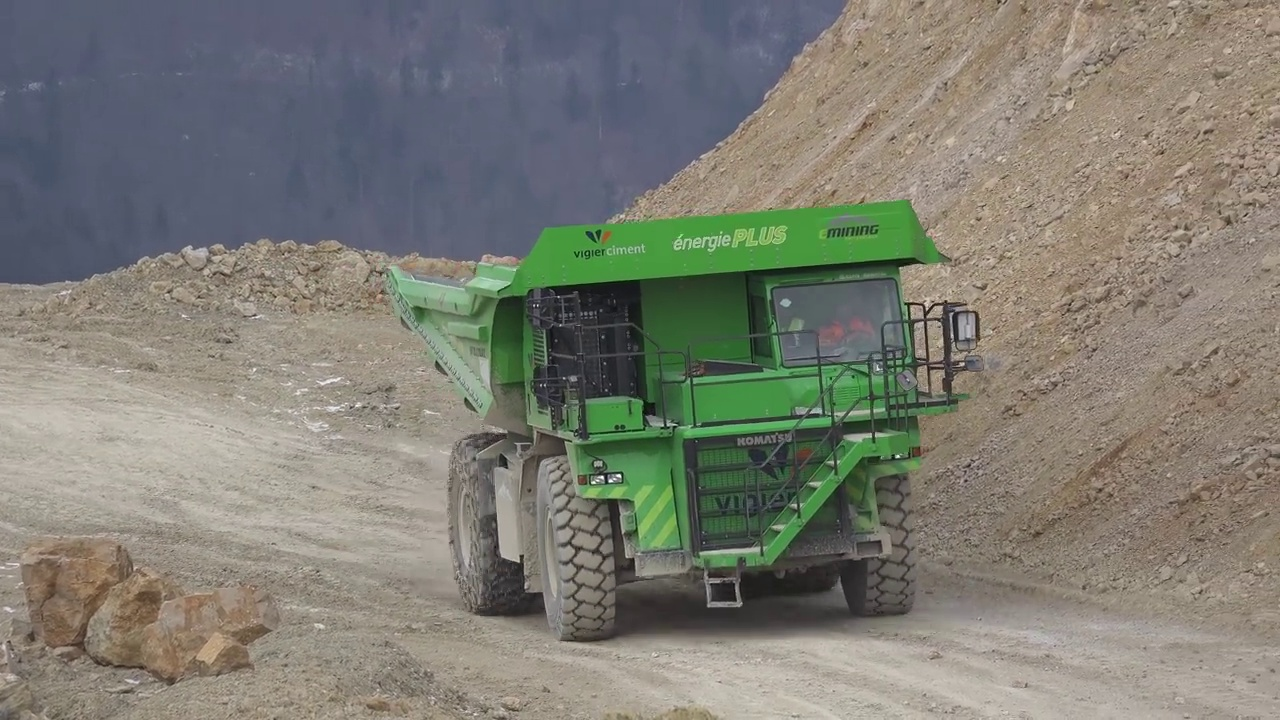dumper: (378, 198, 981, 646)
